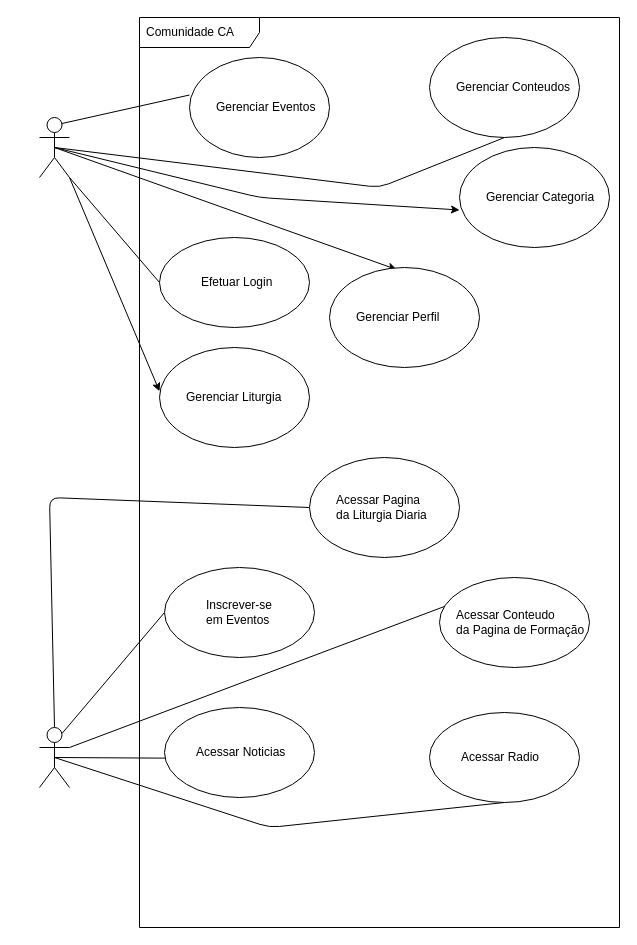
Some shapes in this 637 by 945 pixel diagram are drawn without their labels. The centre of each missing label's shape, as x and y in pixels:
Administrador: point (54, 147)
Usuario: point (54, 757)
